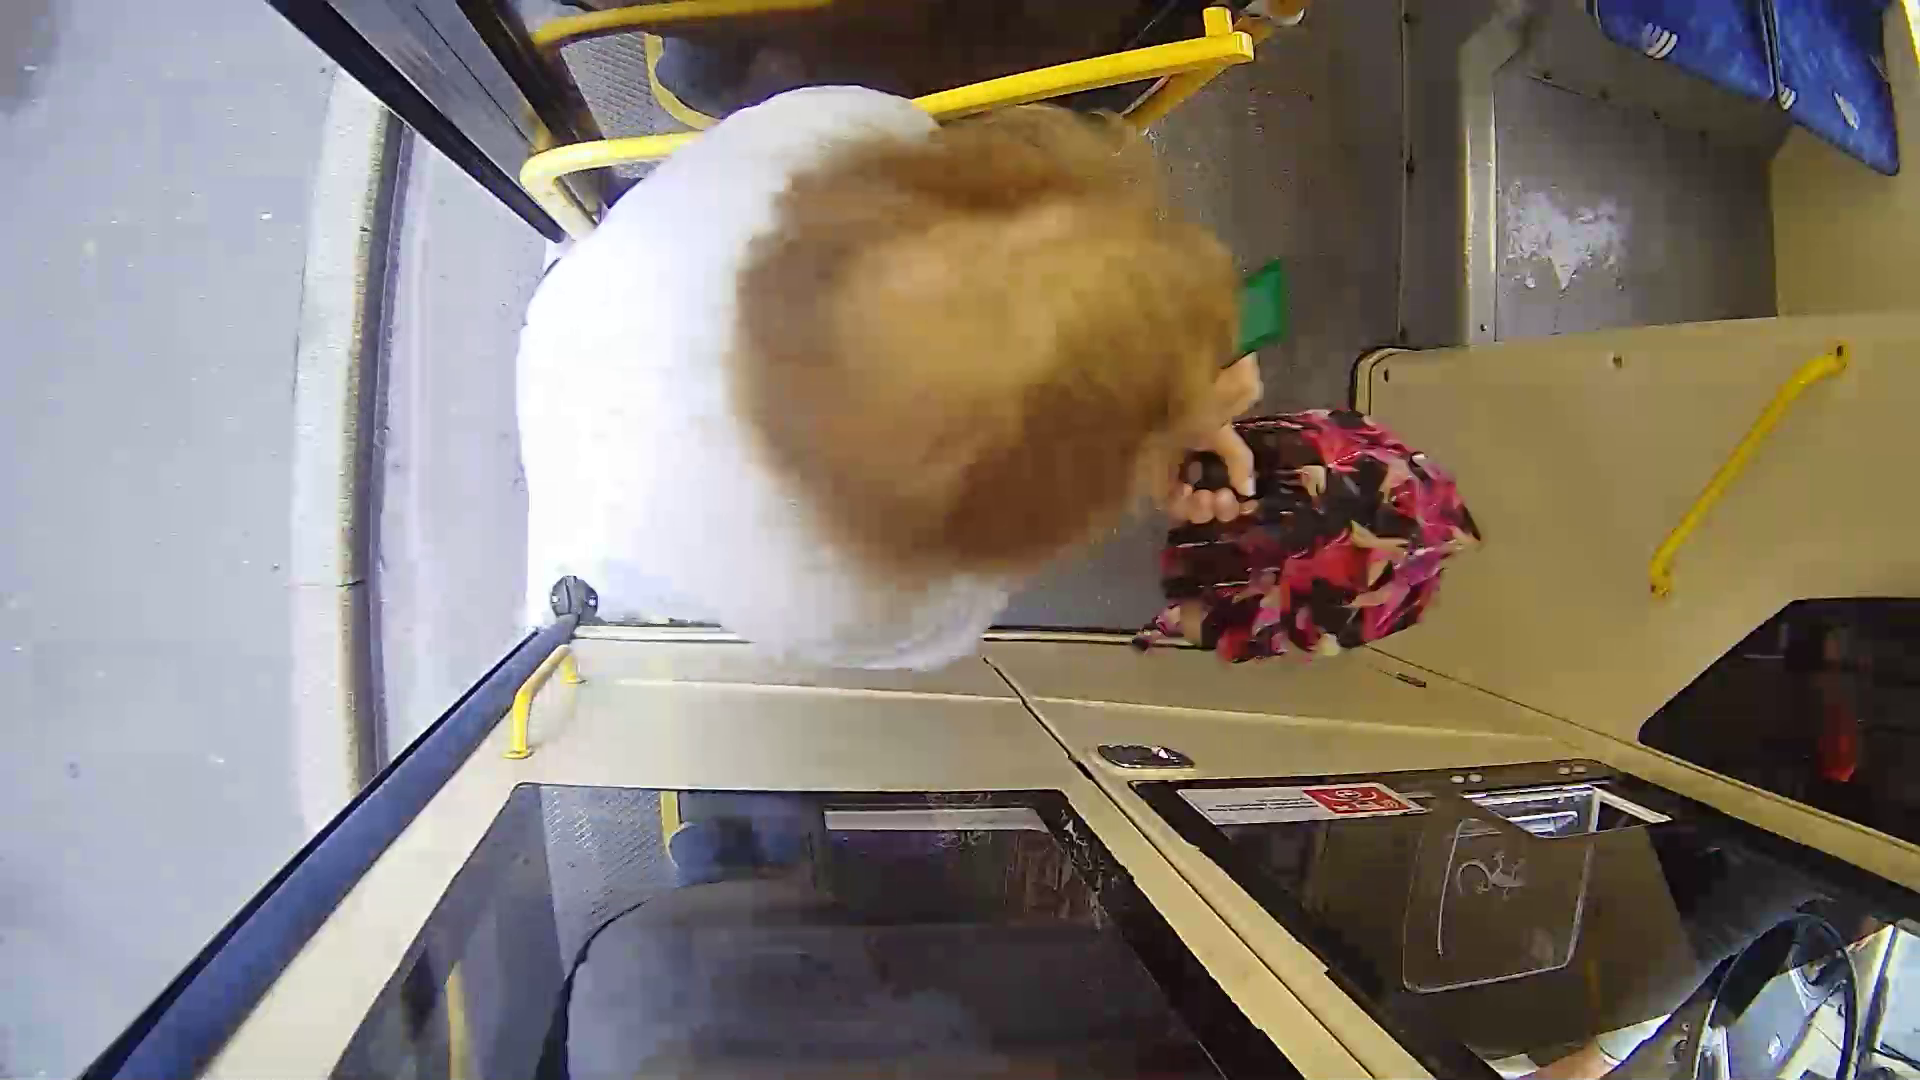person: (506, 104, 1260, 683)
